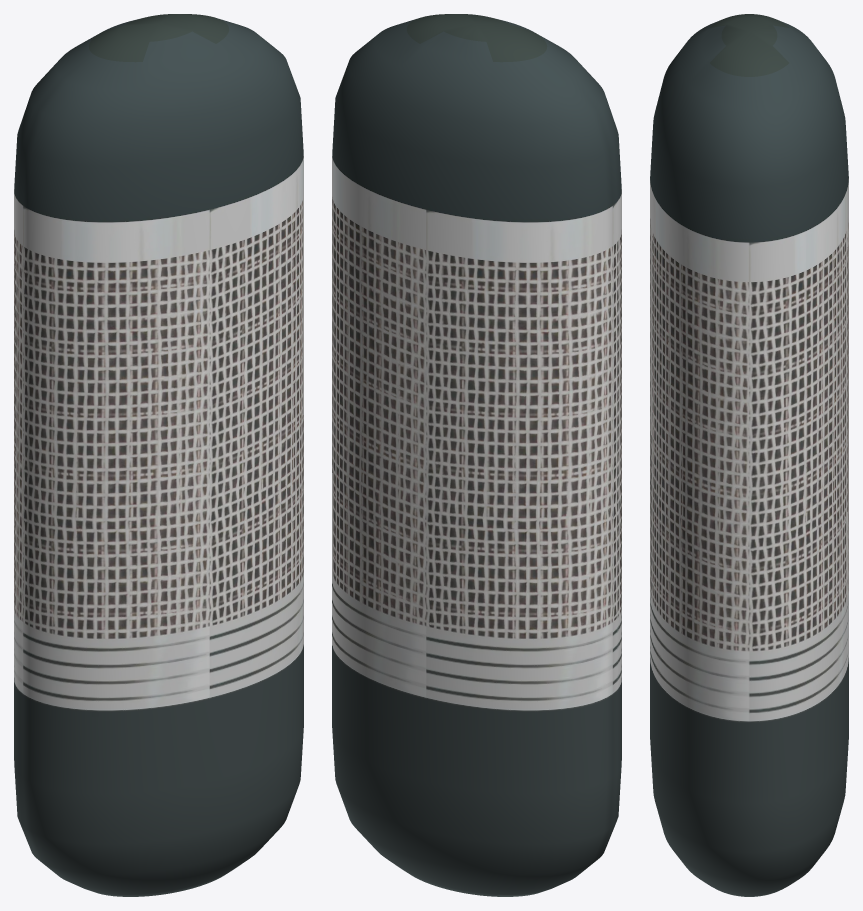
Rendered from aea-r84.glb.
3 views of the same model, side by side, from view 1: azimuth 30°, elevation 25°; view 2: azimuth 150°, elevation 25°; view 3: azimuth 270°, elevation 25° (orthographic).
Visible parts, largest first — view 1: aea-r84-body; view 2: aea-r84-body; view 3: aea-r84-body.
Part boxes in pixels (x1=…): aea-r84-body: x1=14, y1=14, x2=303, y2=896; aea-r84-body: x1=332, y1=14, x2=621, y2=896; aea-r84-body: x1=650, y1=14, x2=848, y2=896.
Bounding box in the file's own units: 0.099 × 0.295 × 0.064.
1 material, 1 textured.
